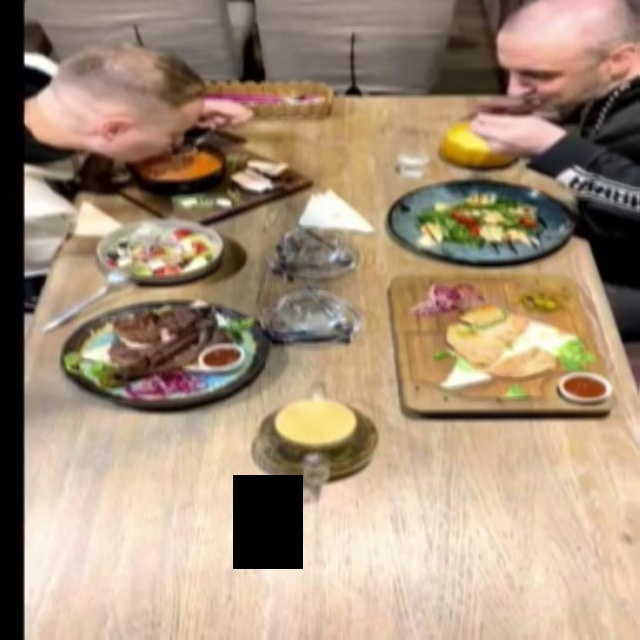meat: (390, 280, 617, 416), (61, 301, 274, 409)
salad: (390, 180, 580, 265), (95, 220, 225, 285)
soup: (88, 134, 316, 225), (440, 122, 520, 169)
tea: (241, 374, 388, 500)
